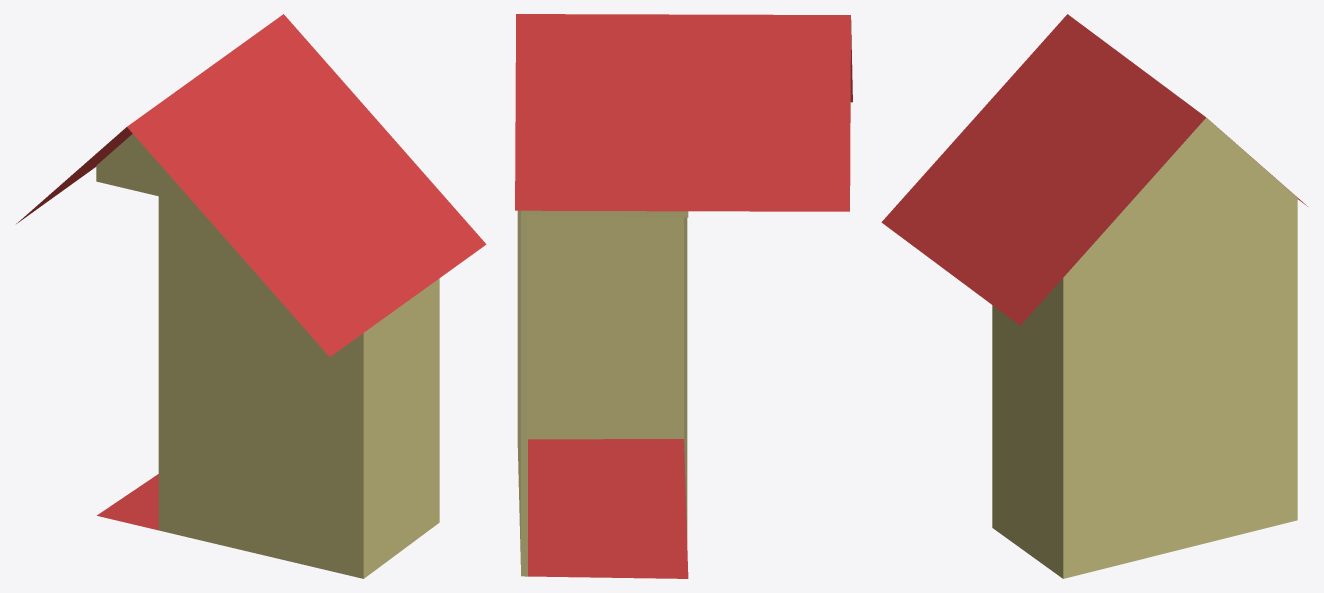
3 renders of one model, left to right at view 1: azimuth 30°, elevation 25°; view 2: azimuth 150°, elevation 25°; view 3: azimuth 270°, elevation 25°, orthographic. The views are drawn at different scales.
Size of the model in its own units: 9.66 by 10.11 by 11.13.
